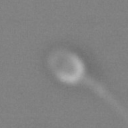normal: (83, 68, 128, 119)
